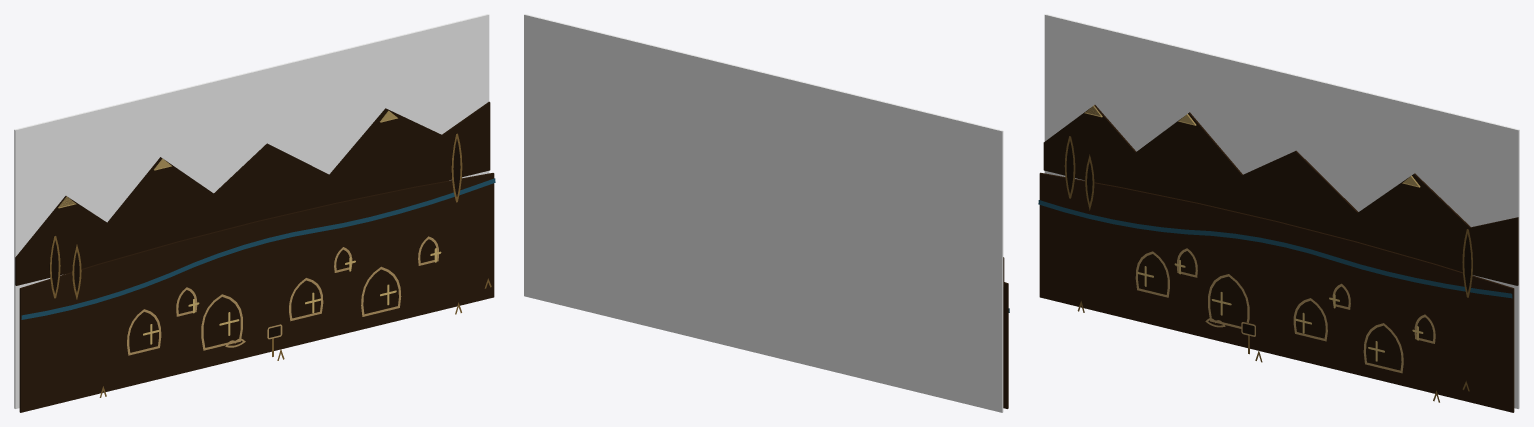
The model's file is loc-chuiskaya-dolina-kairaki.glb.
3 renders of one model, left to right at view 1: azimuth 30°, elevation 25°; view 2: azimuth 150°, elevation 25°; view 3: azimuth 330°, elevation 25°, orthographic.
Visible parts, largest first — view 1: loc-chuiskaya-dolina-kairaki; view 2: loc-chuiskaya-dolina-kairaki; view 3: loc-chuiskaya-dolina-kairaki.
Boxes of the visible parts, x1,y1,x2,y2 form: loc-chuiskaya-dolina-kairaki: (14,14,495,412); loc-chuiskaya-dolina-kairaki: (524,14,1009,412); loc-chuiskaya-dolina-kairaki: (1038,14,1519,412).
Bounding box in the file's own units: 5.34 × 3 × 0.561.
